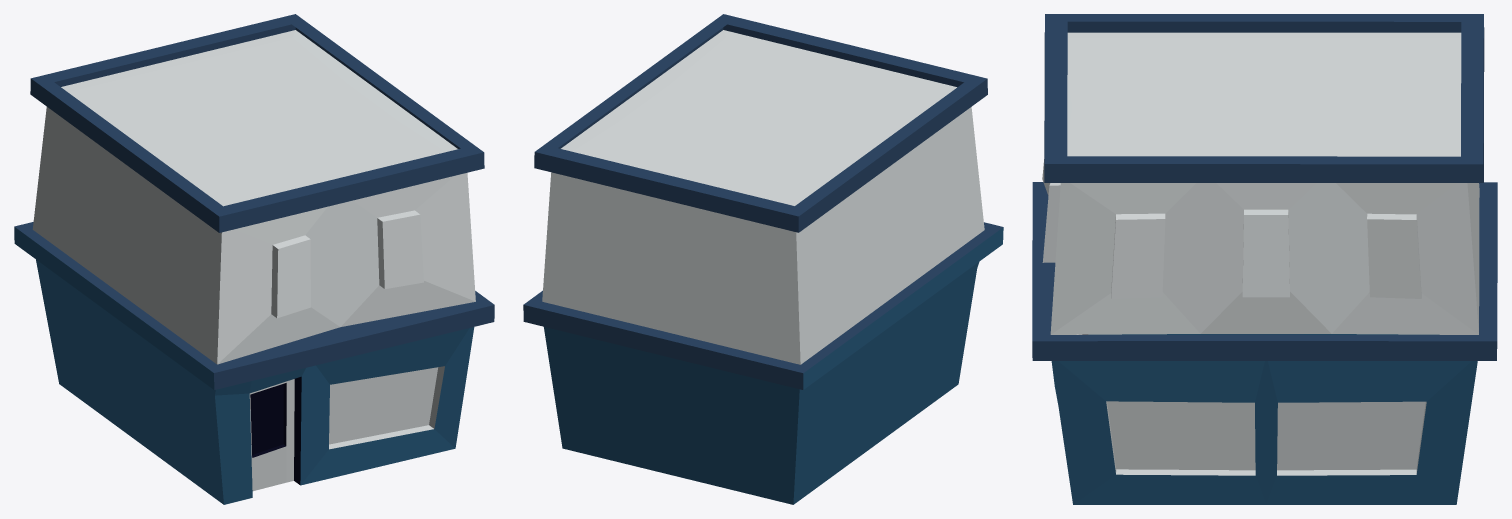
The model's file is build1.fbx.
3 views of the same model, side by side, from view 1: azimuth 30°, elevation 25°; view 2: azimuth 150°, elevation 25°; view 3: azimuth 270°, elevation 25° (orthographic). The views are drawn at different scales.
Parts seen in each view (by area): view 1: Cube.011, Cube.027; view 2: Cube.011; view 3: Cube.011, Cube.027.
Part boxes in pixels (x1,y1,x2,y2): Cube.011: [14, 14, 494, 504]; Cube.027: [271, 210, 423, 318]; Cube.011: [523, 14, 1003, 504]; Cube.011: [1032, 14, 1497, 504]; Cube.027: [1042, 159, 1421, 298].
Bounding box in the file's own units: 617 × 633 × 763.
